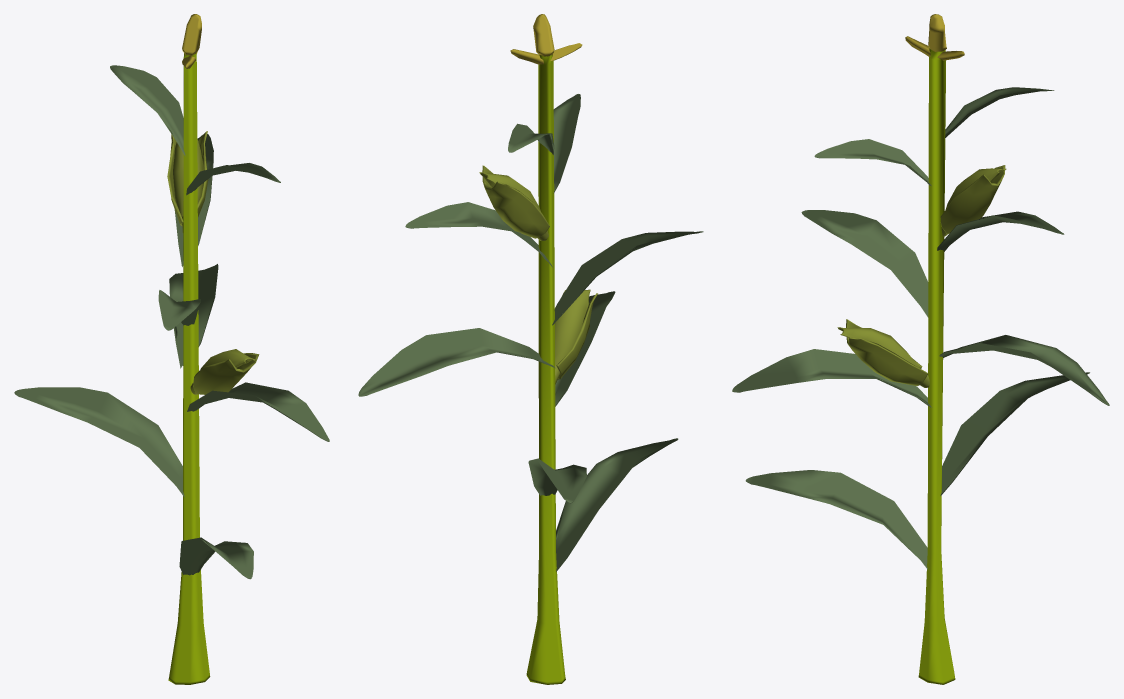
The model's file is milho inteiro com cores.fbx.
The picture shows the model from 3 angles, left to right: view 1: azimuth 30°, elevation 25°; view 2: azimuth 150°, elevation 25°; view 3: azimuth 270°, elevation 25°; orthographic projection.
Parts seen in each view (by area): view 1: Caule_MESH, Folha_MESH7.001, Folha_MESH1.001, Folha_MESH6.001, Folha_MESH.001, pasted__Milho_MESH2, Folha_MESH2.001, Milho_MESH2, Folha_MESH3.001, Folha_MESH4.001, Folha_MESH5.001; view 2: Caule_MESH, Folha_MESH2.001, Folha_MESH.001, Milho_MESH2, Folha_MESH3.001, pasted__Milho_MESH2, Folha_MESH4.001, Folha_MESH7.001, Folha_MESH5.001, Folha_MESH1.001, Folha_MESH6.001; view 3: Caule_MESH, Folha_MESH.001, Folha_MESH3.001, Folha_MESH1.001, Folha_MESH7.001, pasted__Milho_MESH2, Folha_MESH2.001, Milho_MESH2, Folha_MESH5.001, Folha_MESH4.001, Folha_MESH6.001.
Part boxes in pixels (box(x1,y1,x2,y2)): Caule_MESH: box(168, 14, 210, 684); Folha_MESH7.001: box(14, 387, 184, 497); Folha_MESH1.001: box(187, 382, 329, 441); Folha_MESH6.001: box(110, 65, 185, 156); Folha_MESH.001: box(179, 537, 253, 579); pasted__Milho_MESH2: box(190, 349, 259, 394); Folha_MESH2.001: box(169, 264, 218, 368); Milho_MESH2: box(167, 131, 208, 233); Folha_MESH3.001: box(158, 290, 200, 330); Folha_MESH4.001: box(174, 134, 213, 266); Folha_MESH5.001: box(186, 163, 280, 195); Caule_MESH: box(510, 14, 582, 684); Folha_MESH2.001: box(358, 328, 555, 396); Folha_MESH.001: box(556, 438, 678, 571); Milho_MESH2: box(479, 165, 549, 240); Folha_MESH3.001: box(552, 231, 703, 325); pasted__Milho_MESH2: box(554, 289, 597, 384); Folha_MESH4.001: box(405, 202, 552, 267); Folha_MESH7.001: box(528, 458, 586, 503); Folha_MESH5.001: box(553, 94, 580, 193); Folha_MESH1.001: box(555, 291, 615, 406); Folha_MESH6.001: box(508, 123, 554, 154); Caule_MESH: box(905, 14, 964, 684); Folha_MESH.001: box(745, 470, 927, 569); Folha_MESH3.001: box(801, 210, 928, 317); Folha_MESH1.001: box(732, 349, 931, 407); Folha_MESH7.001: box(940, 372, 1089, 495); pasted__Milho_MESH2: box(837, 319, 929, 387); Folha_MESH2.001: box(939, 335, 1109, 405); Milho_MESH2: box(940, 165, 1006, 236); Folha_MESH5.001: box(814, 139, 931, 185); Folha_MESH4.001: box(937, 211, 1064, 251); Folha_MESH6.001: box(945, 87, 1054, 137).
Size of the model in its own units: 51.76 by 161 by 82.72.
